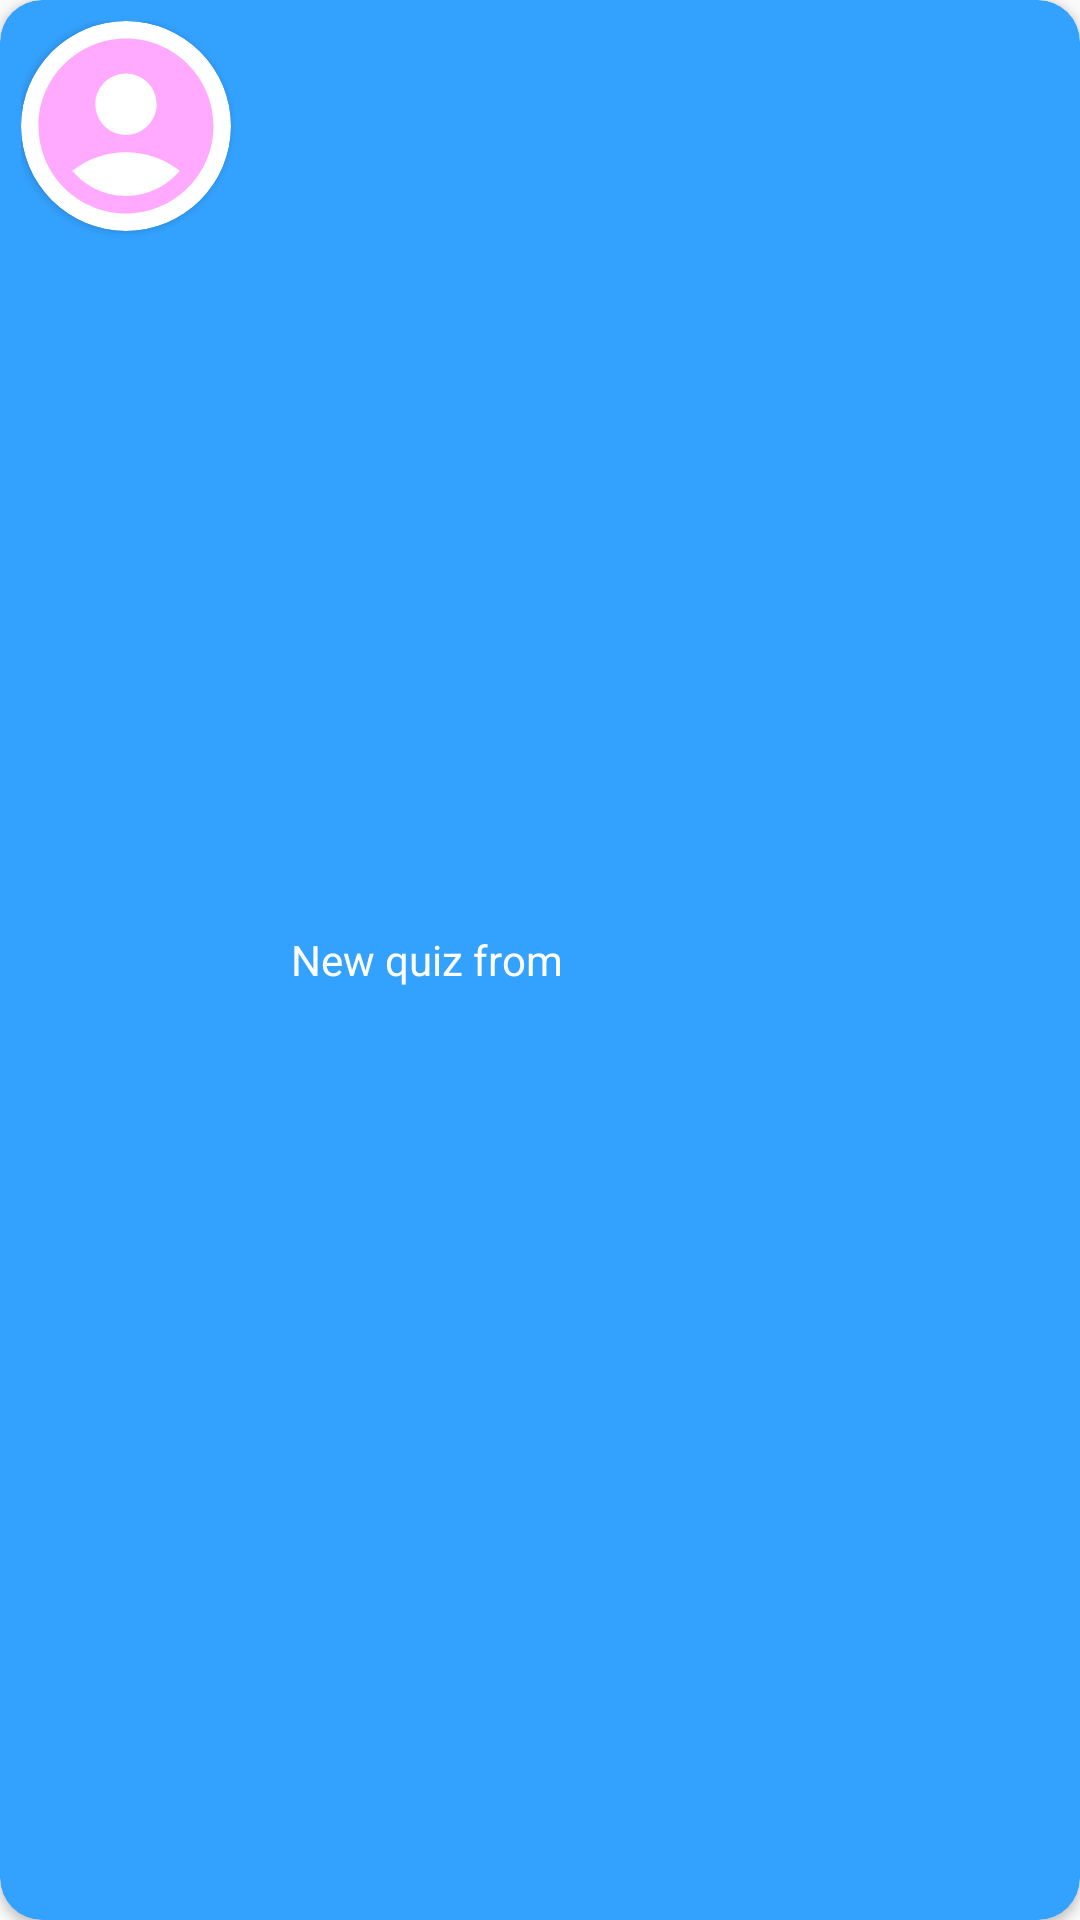

Screen size 1080w x 1920h. Icon name, then its box in pixels as (x1, y1, x2, y2):
account: (21, 21, 231, 231)
